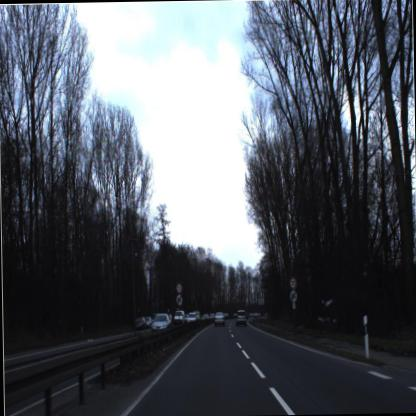other: (286, 288, 301, 305), (172, 294, 184, 310)
prohibitory: (289, 274, 297, 289), (176, 280, 184, 294)
